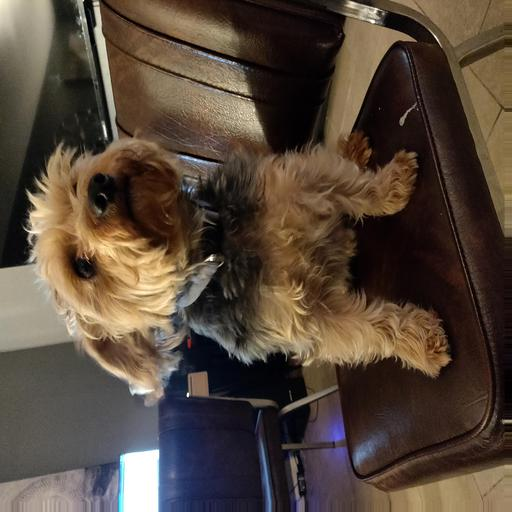dog: (36, 115, 322, 401)
